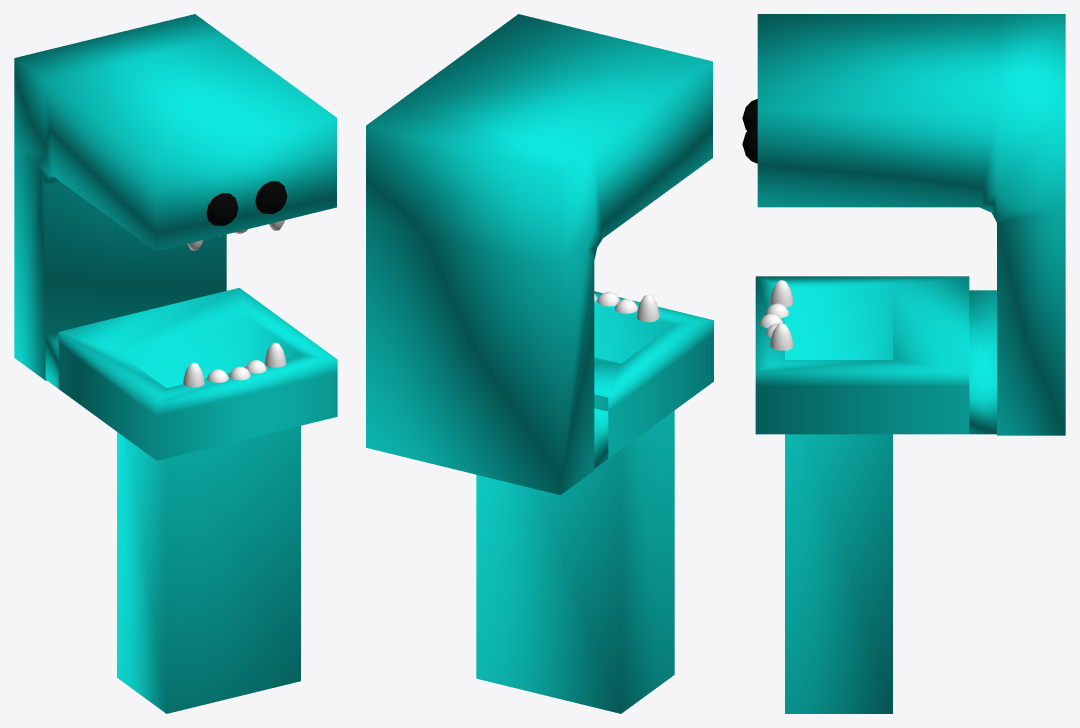
Rendered from MonsterOb.fbx.
3 views of the same model, side by side, from view 1: azimuth 30°, elevation 25°; view 2: azimuth 150°, elevation 25°; view 3: azimuth 270°, elevation 25° (orthographic). The views are drawn at different scales.
Parts seen in each view (by area): view 1: Sphere.003, Sphere.005; view 2: Sphere.005, Sphere.003; view 3: Sphere.005, Sphere.003.
Boxes of the visible parts, x1=… form: Sphere.003: x1=58, y1=288, x2=337, y2=713; Sphere.005: x1=14, y1=14, x2=336, y2=388; Sphere.005: x1=366, y1=14, x2=712, y2=494; Sphere.003: x1=476, y1=291, x2=713, y2=713; Sphere.005: x1=742, y1=14, x2=1065, y2=435; Sphere.003: x1=755, y1=276, x2=969, y2=713.
Size of the model in its own units: 1482 by 4440 by 2111.
